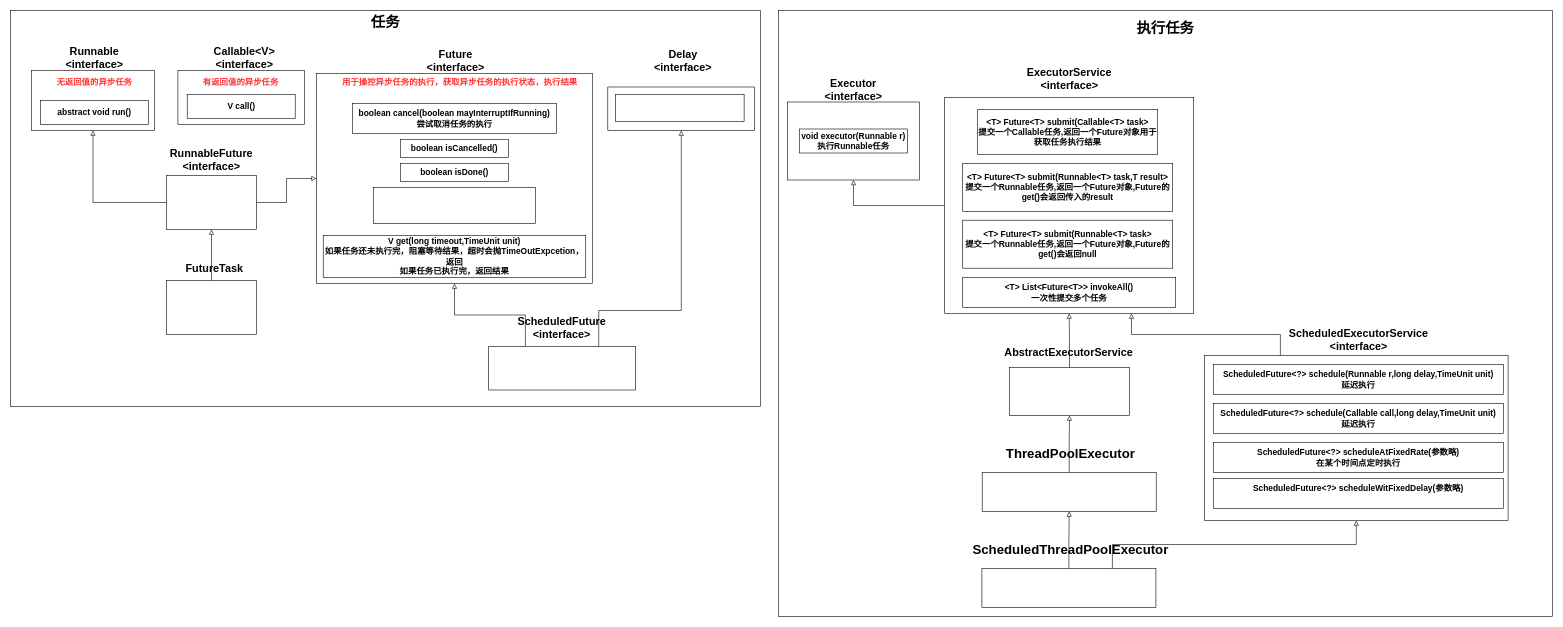
This 1563x627 diagram has some shape labels left out. Each missing label, with the box of its shape:
long getDelay(TimeUnit unit): (615, 94, 744, 122)
V get() 如果任务还未执行完，阻塞等待结果 如果任务已执行完，返回结果: (373, 187, 536, 224)
同Future,但作用于定时异步任务: (488, 346, 635, 390)
